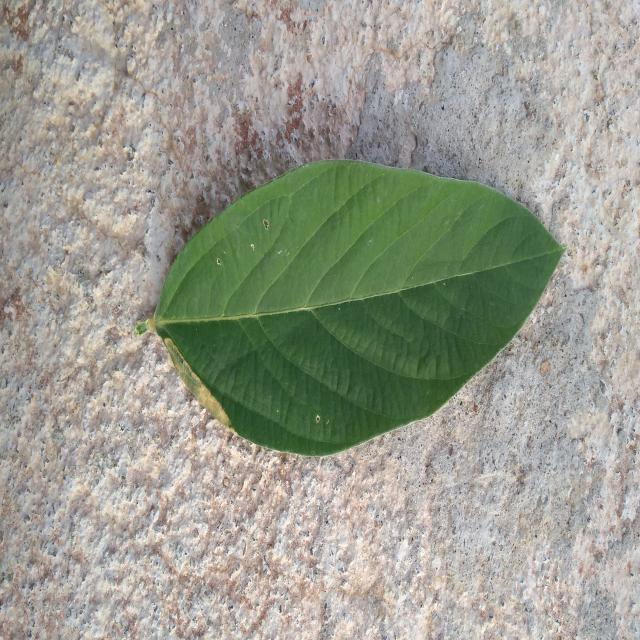pea: (139, 160, 564, 456)
